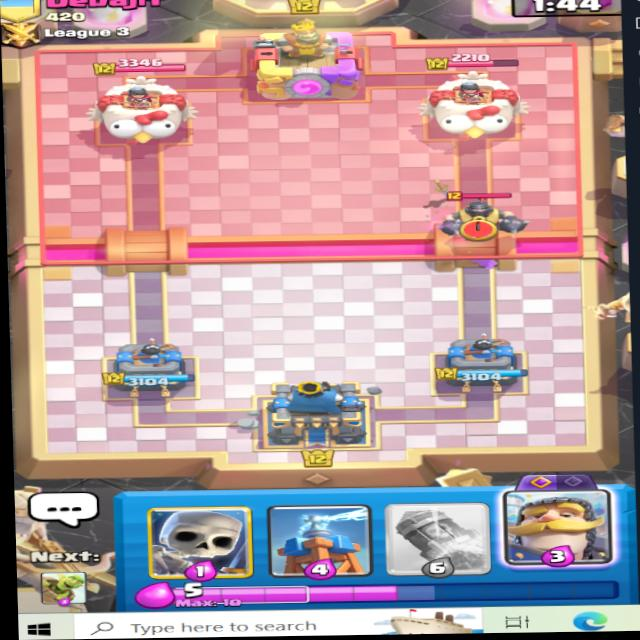mega-knight: (438, 177, 528, 255)
